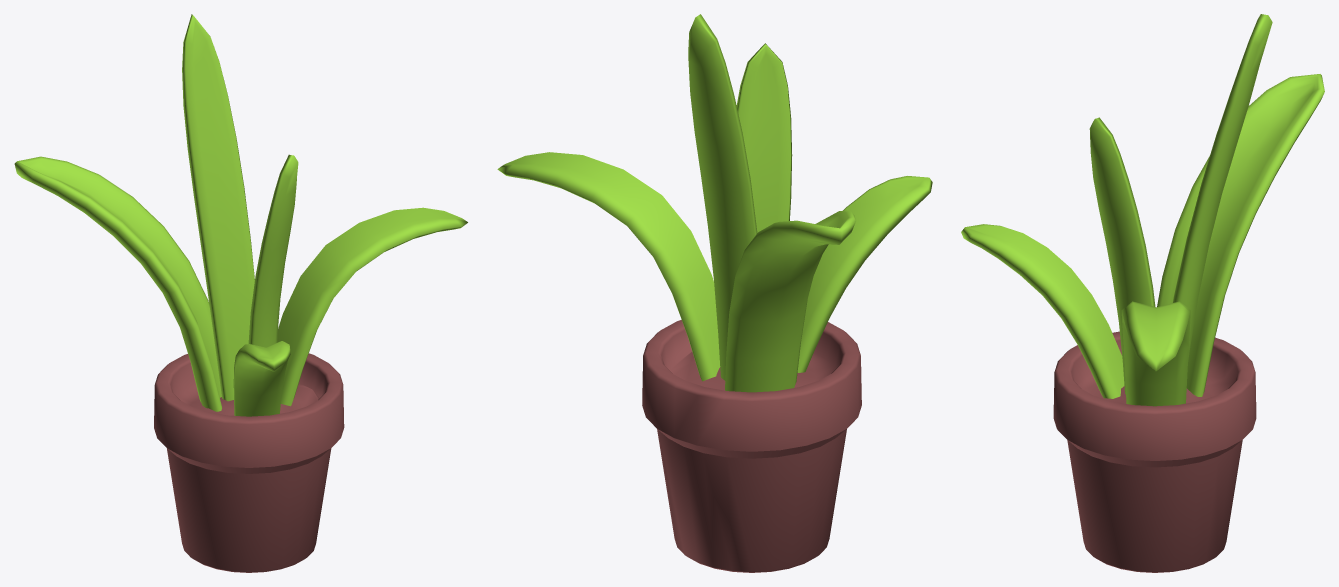
File: Plant.fbx
3 renders of one model, left to right at view 1: azimuth 30°, elevation 25°; view 2: azimuth 150°, elevation 25°; view 3: azimuth 270°, elevation 25°, orthographic. The views are drawn at different scales.
Parts seen in each view (by area): view 1: Plant; view 2: Plant; view 3: Plant.
Boxes of the visible parts, x1,y1,x2,y2 form: Plant: (14,14,467,572); Plant: (497,14,932,572); Plant: (961,14,1324,572).
Bounding box in the file's own units: 63.36 × 79.58 × 49.76.
